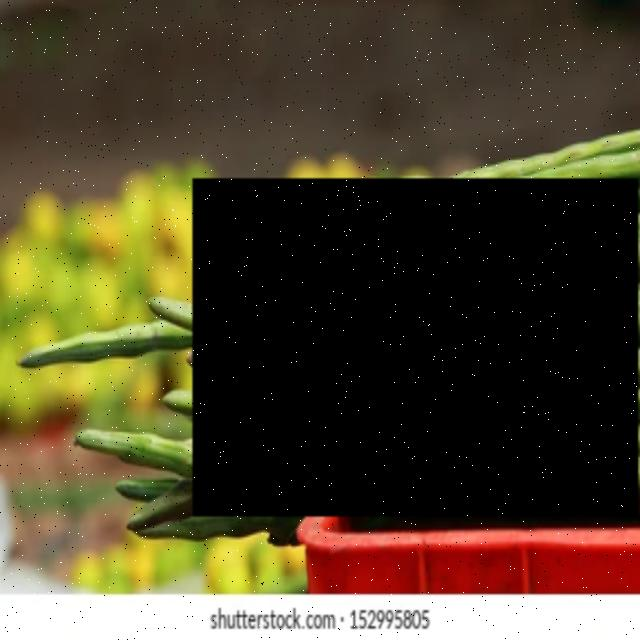Sajjyun: (193, 181, 640, 518)
